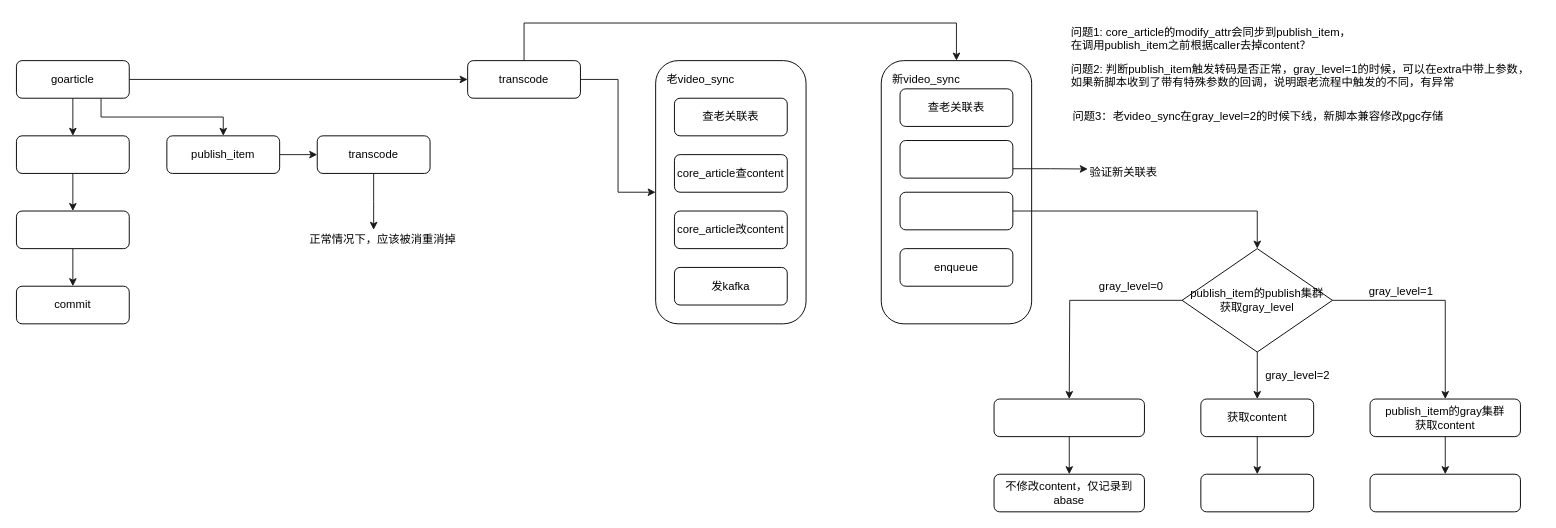
This 1556x528 diagram has some shape labels left out. The shapes that lost their labels are listed below. From the top down, each one's box as (x1, y1, x2, y2) in pixels, then its label:
(16, 135, 129, 173): core_article
(899, 140, 1013, 178): 查新关联表
(16, 210, 129, 249): pipeline
(899, 191, 1013, 230): 获取content 修改content
(993, 398, 1144, 437): core_article 获取content
(1200, 473, 1314, 512): 使用publish修改content
(1369, 473, 1520, 512): 使用gray修改content
